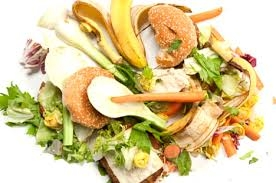kitchen_waste: (1, 76, 91, 166), (56, 58, 137, 143), (69, 1, 161, 74), (40, 8, 129, 82), (100, 83, 218, 116), (144, 3, 200, 72), (166, 97, 228, 150), (186, 44, 229, 95), (14, 35, 54, 77), (128, 147, 154, 173), (159, 140, 185, 161)
